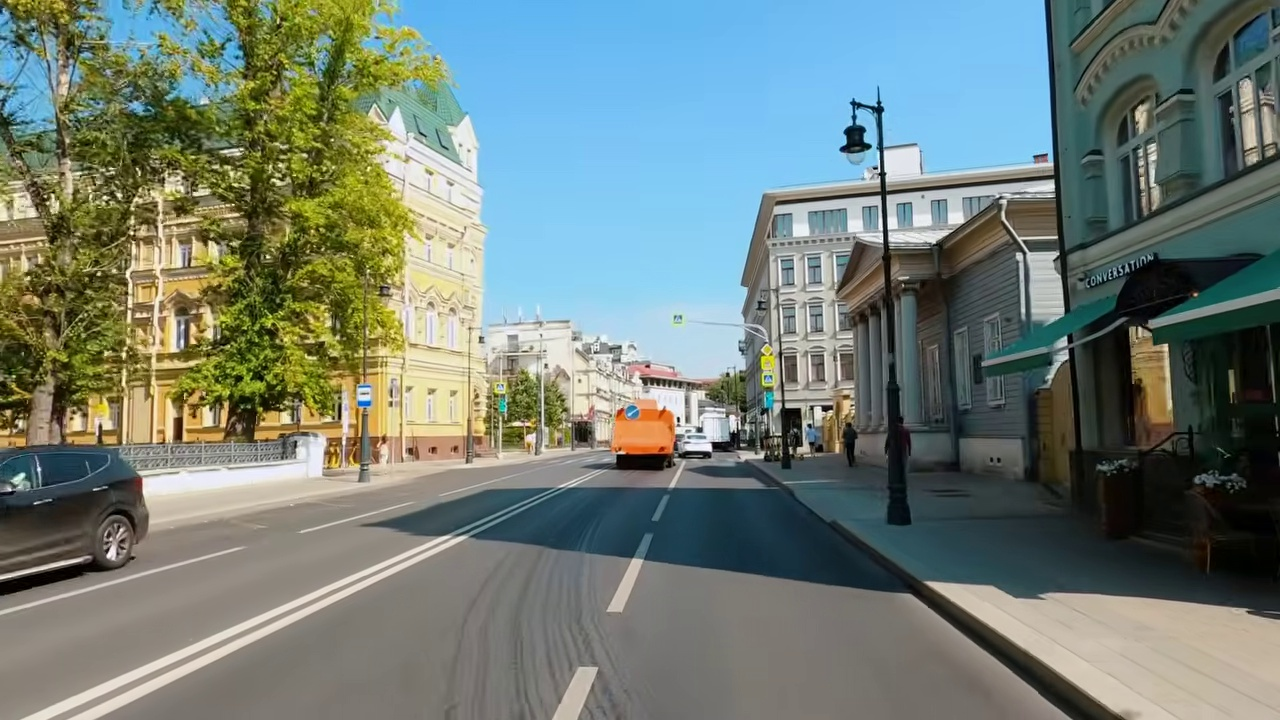apagada: (831, 124, 872, 173)
